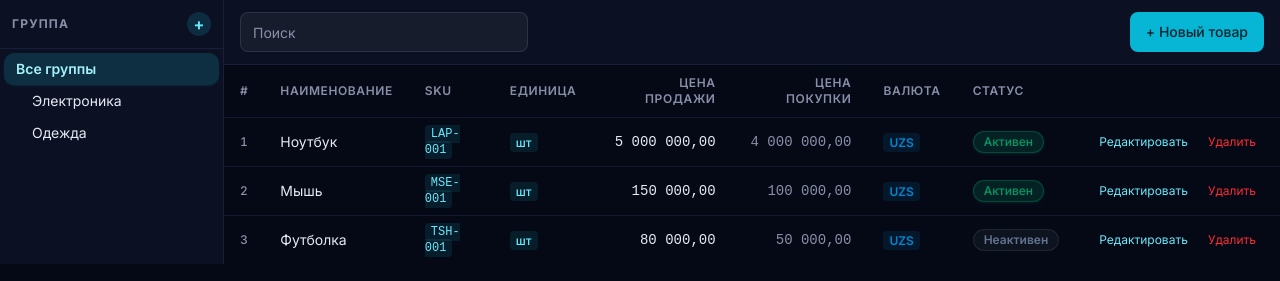
ProductsPage › фильтрует продукты по группе
Click the button "Электроника" at x=77, y=100, box [32, 92, 122, 109]
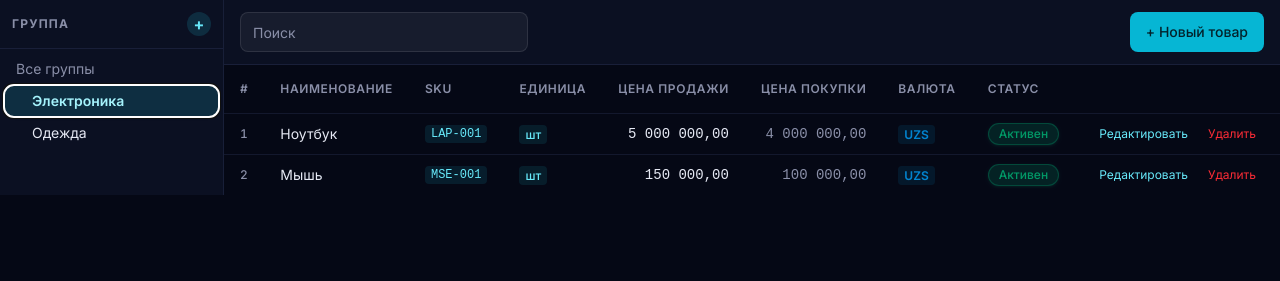
Expected: the text "Ноутбук" is shown, [264, 113, 409, 154]
Expected: the text "Футболка" is gone
